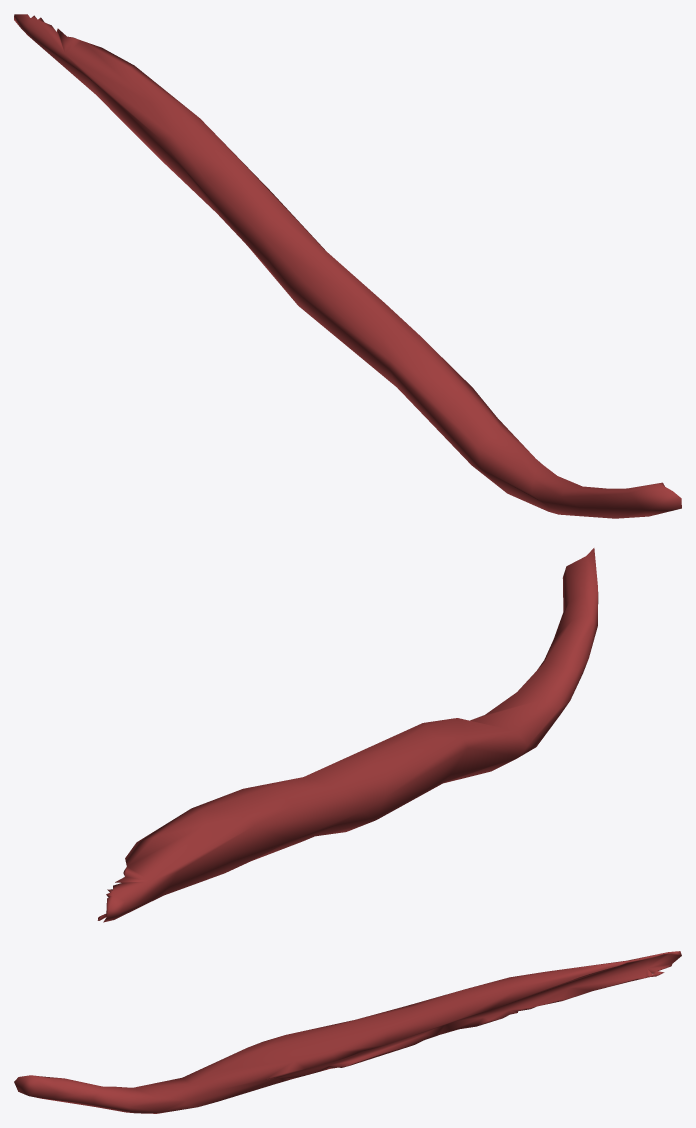
Rendered from lumbrical-muscles-of-foot-l.glb.
3 views of the same model, one above another, from view 1: azimuth 30°, elevation 25°; view 2: azimuth 150°, elevation 25°; view 3: azimuth 270°, elevation 25° (orthographic). The views are drawn at different scales.
Parts seen in each view (by area): view 1: Lumbrical muscles of foot.l; view 2: Lumbrical muscles of foot.l; view 3: Lumbrical muscles of foot.l.
Part boxes in pixels (x1=…): Lumbrical muscles of foot.l: x1=14, y1=14, x2=681, y2=518; Lumbrical muscles of foot.l: x1=97, y1=548, x2=598, y2=922; Lumbrical muscles of foot.l: x1=14, y1=951, x2=681, y2=1113.
Bounding box in the file's own units: 0.0157 × 0.0202 × 0.094.
